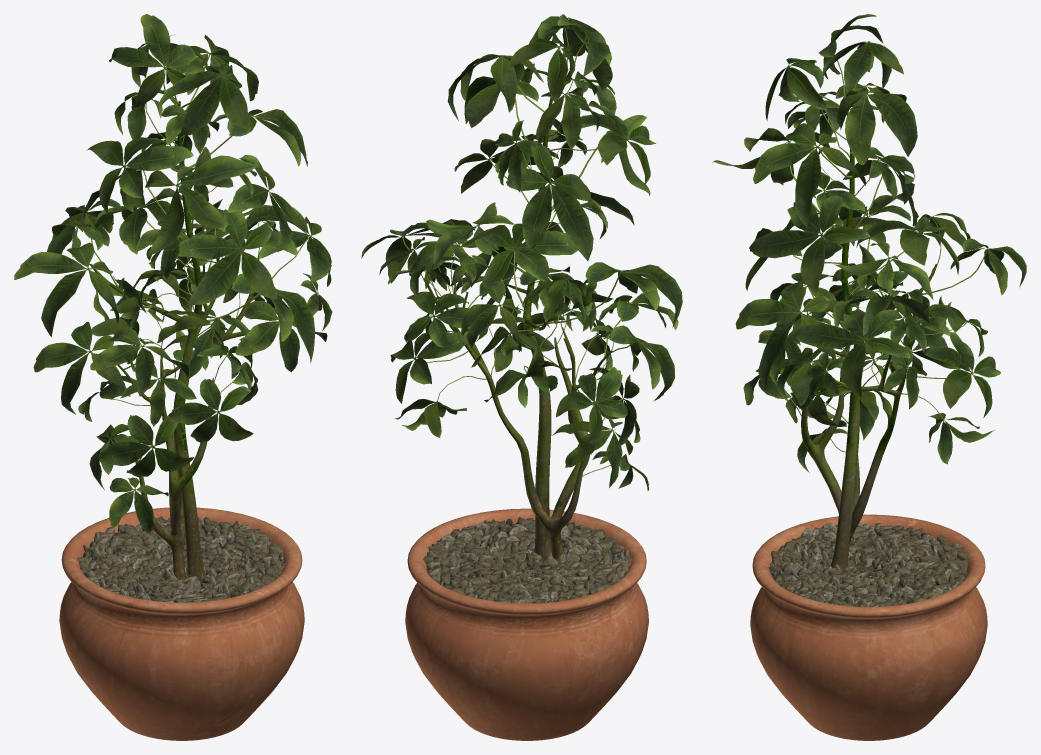
The model's file is moneytree.glb.
3 renders of one model, left to right at view 1: azimuth 30°, elevation 25°; view 2: azimuth 150°, elevation 25°; view 3: azimuth 270°, elevation 25°, orthographic. The views are drawn at different scales.
Visible parts, largest first — view 1: pachira_aquatica_01_leaves_d, potted_plant_02_pot, potted_plant_02_dirt, pachira_aquatica_01_bark_d; view 2: pachira_aquatica_01_leaves_d, potted_plant_02_pot, potted_plant_02_dirt, pachira_aquatica_01_bark_d; view 3: pachira_aquatica_01_leaves_d, potted_plant_02_pot, potted_plant_02_dirt, pachira_aquatica_01_bark_d.
Part boxes in pixels (x1,y1,x2,y2): pachira_aquatica_01_leaves_d: [14, 14, 332, 531]; potted_plant_02_pot: [59, 507, 304, 740]; potted_plant_02_dirt: [77, 516, 285, 602]; pachira_aquatica_01_bark_d: [90, 101, 259, 579]; pachira_aquatica_01_leaves_d: [361, 14, 682, 490]; potted_plant_02_pot: [405, 508, 648, 740]; potted_plant_02_dirt: [423, 517, 631, 603]; pachira_aquatica_01_bark_d: [424, 98, 612, 560]; pachira_aquatica_01_leaves_d: [712, 14, 1026, 472]; potted_plant_02_pot: [750, 514, 987, 740]; potted_plant_02_dirt: [768, 522, 968, 606]; pachira_aquatica_01_bark_d: [801, 112, 937, 572].
Bounding box in the file's own units: 0.8647 × 1.96 × 0.8175.
3 materials, 3 textured.
